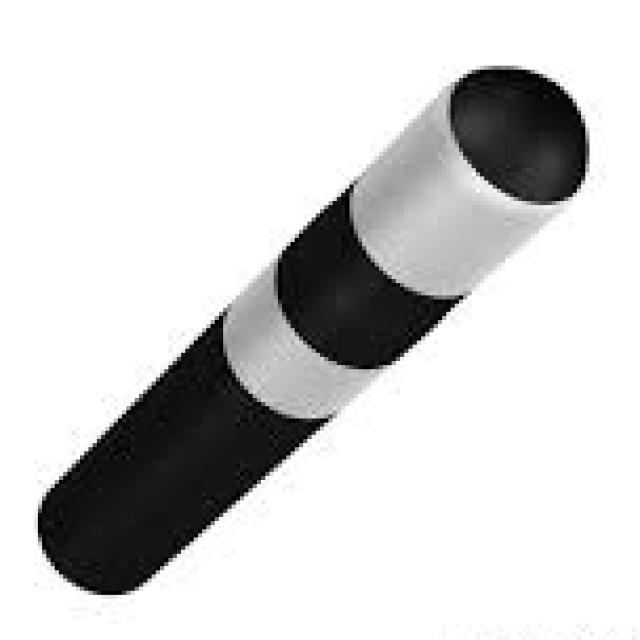missile: (35, 66, 588, 598)
